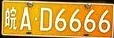A: (20, 7, 31, 30)
